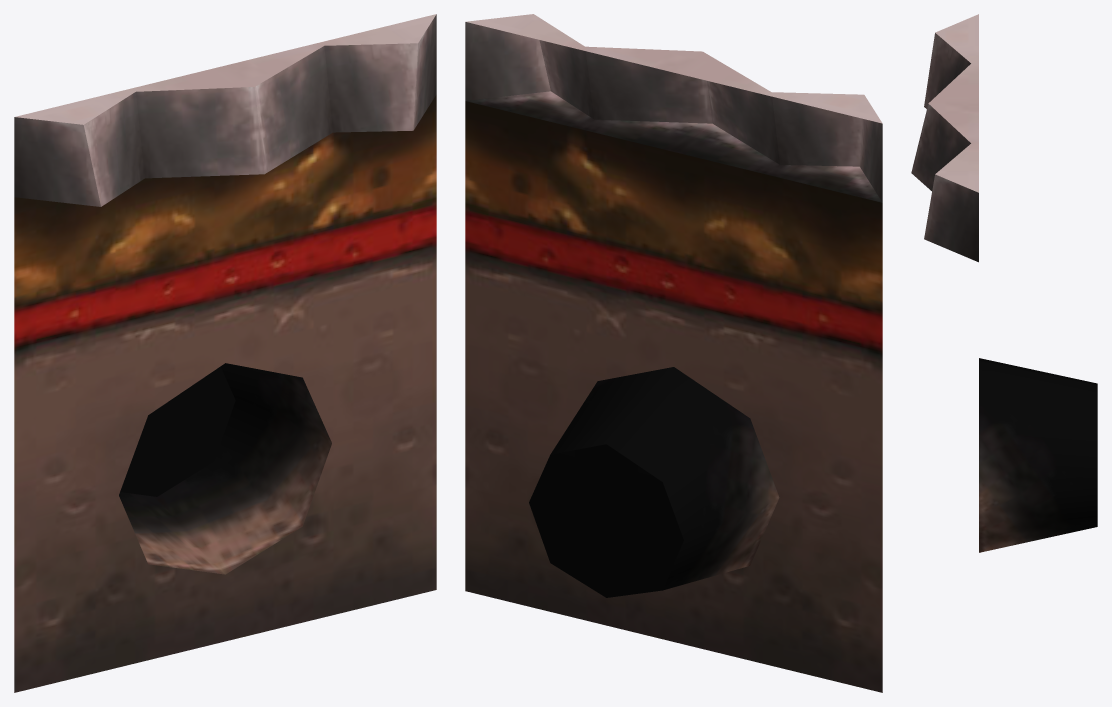
File: ledge_mid.fbx
3 views of the same model, side by side, from view 1: azimuth 30°, elevation 25°; view 2: azimuth 150°, elevation 25°; view 3: azimuth 270°, elevation 25° (orthographic). The views are drawn at different scales.
Parts seen in each view (by area): view 1: ledge_mid; view 2: ledge_mid; view 3: ledge_mid.
Part boxes in pixels (bbox=[...]): ledge_mid: bbox=[14, 14, 436, 692]; ledge_mid: bbox=[465, 14, 882, 692]; ledge_mid: bbox=[911, 14, 1097, 552].
Size of the model in its own units: 66.67 by 29.35 by 86.87.
